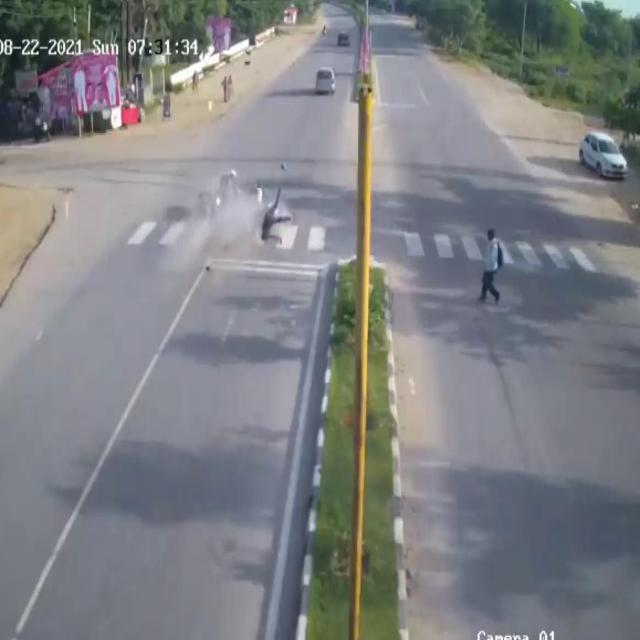accident: (196, 162, 292, 266)
